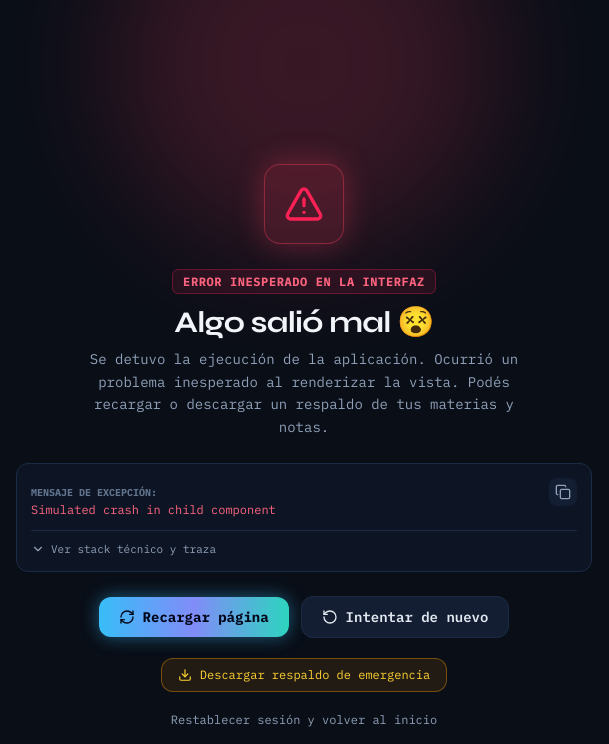
Test: ErrorBoundary Component › debe permitir descargar un respaldo de emergencia en formato JSON
Click the button "Descargar respaldo de emergencia". click: point(304, 675)
box: [161,658,447,692]
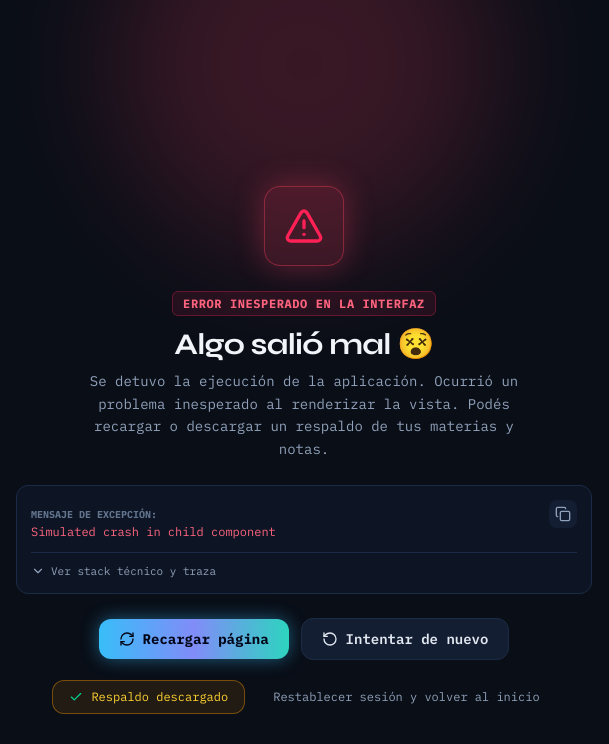
Check: the text "Respaldo descargado" is shown, box [91,689,228,705]
